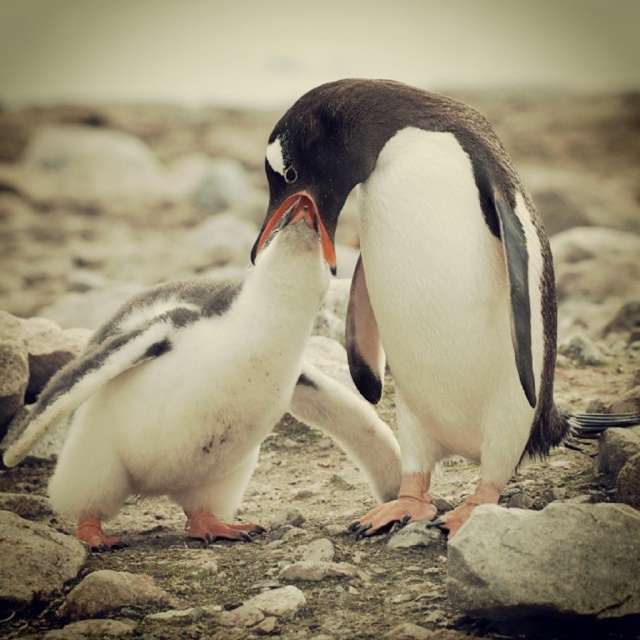Penguin: (251, 76, 639, 541), (3, 196, 400, 551)
